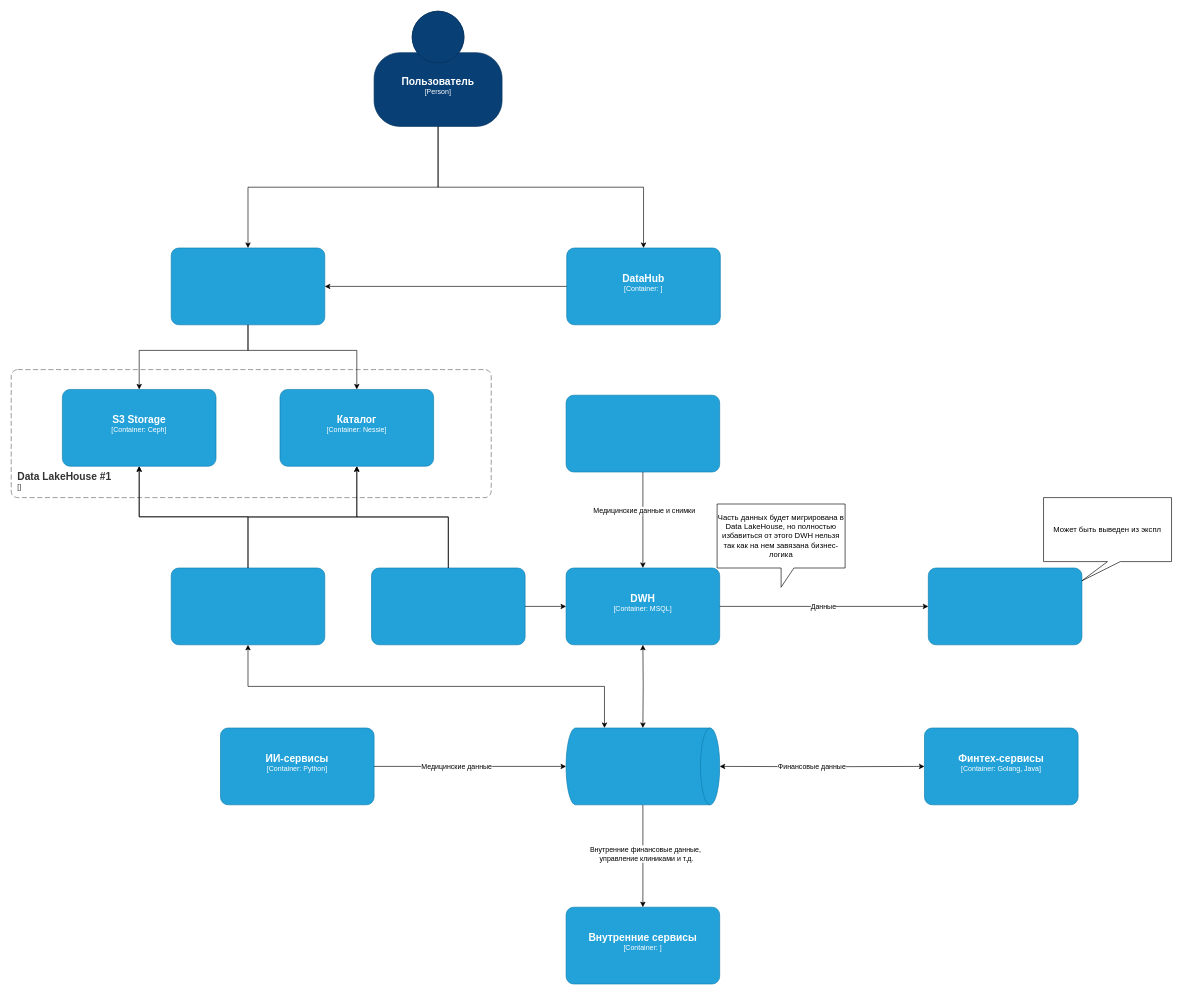
The diagram is 1183 pixels wide and 995 high, and some of its shapes have lost their labels. The box of each missing label's shape, as (x1, y1, x2, y2) in pixels:
Apache Airflow [Container: Apache Spark]: (371, 567, 525, 645)
Apache Kafka [Container: Apache Kafka]: (565, 727, 720, 805)
Apache Spark [Container: Apache Spark]: (171, 567, 325, 645)
Dremio / Портал [Container: Dremio]: (171, 247, 325, 325)
PowerBI [Container: ]: (928, 567, 1082, 645)
Клиентские интерфейс оператора [Container: Power Builder]: (565, 395, 720, 472)
